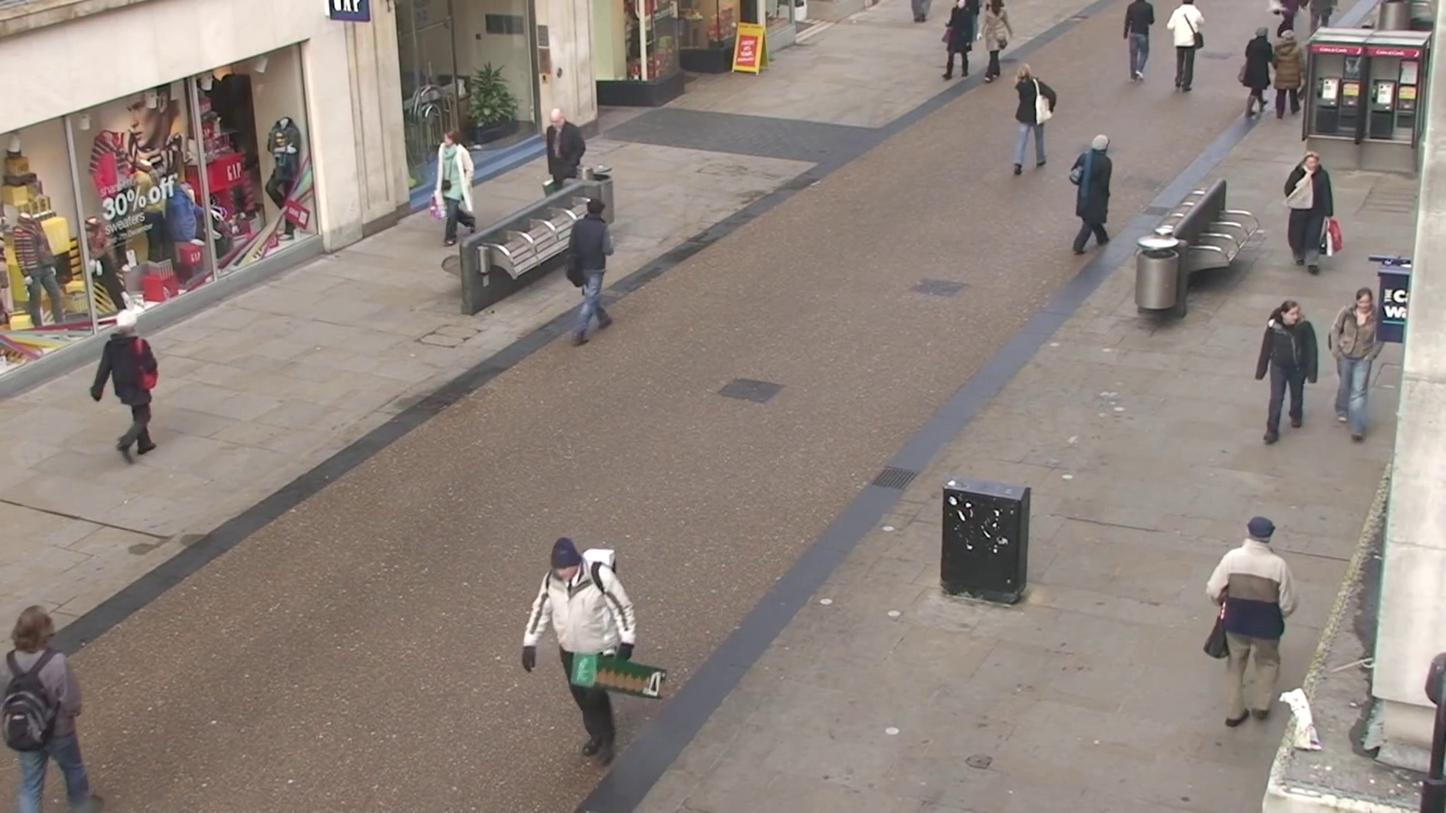person: (521, 538, 634, 763), (1204, 514, 1296, 730), (0, 605, 95, 811), (1255, 299, 1322, 445), (96, 327, 160, 461), (1329, 288, 1383, 441), (565, 196, 613, 346), (1260, 21, 1328, 123), (1284, 146, 1337, 273), (531, 108, 593, 200), (1069, 134, 1115, 257), (435, 128, 479, 253), (1010, 66, 1057, 175), (1167, 1, 1205, 95), (1240, 28, 1274, 123), (941, 4, 975, 80), (981, 1, 1013, 81), (1124, 0, 1154, 84)
